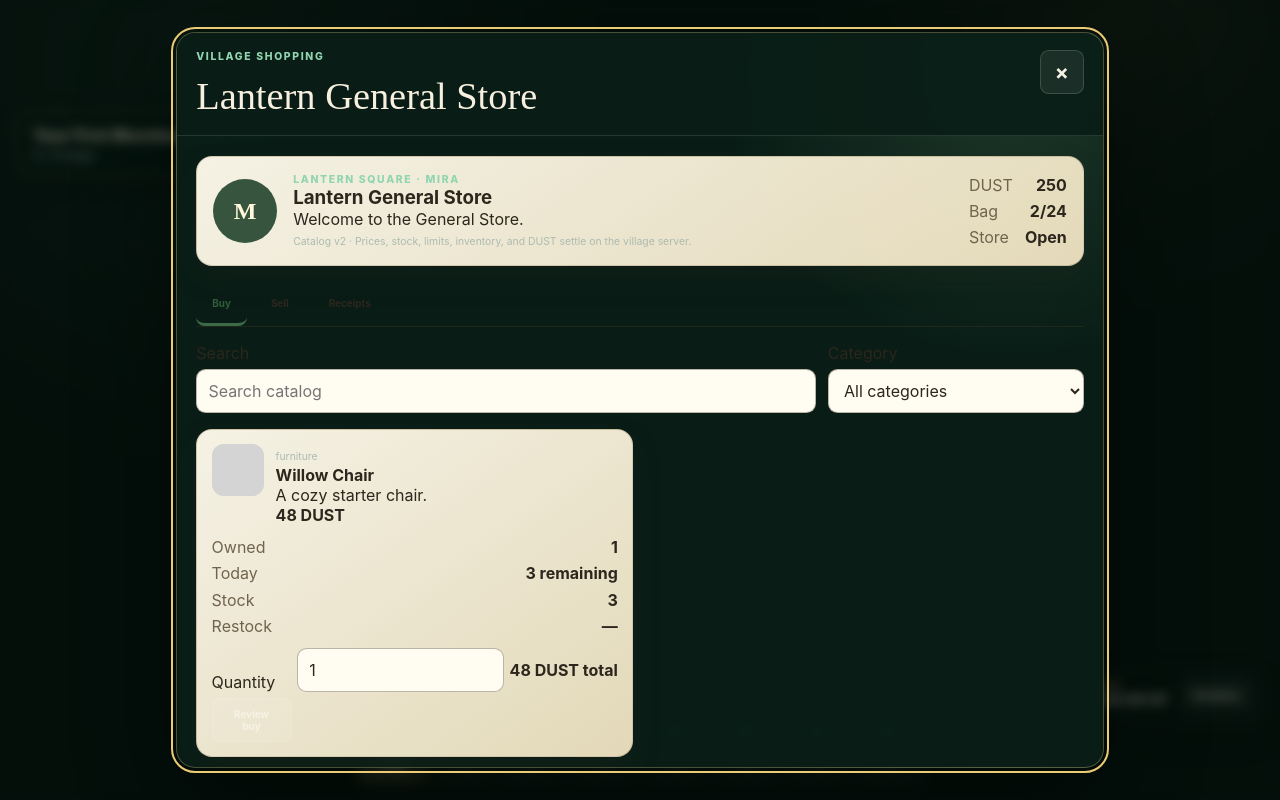
Test: CozyGameplay accessible HUD › routes confirmed shop buying through the canonical interaction transaction contract
Click the button "Review buy".
click(252, 720)  # box [212,698,292,742]
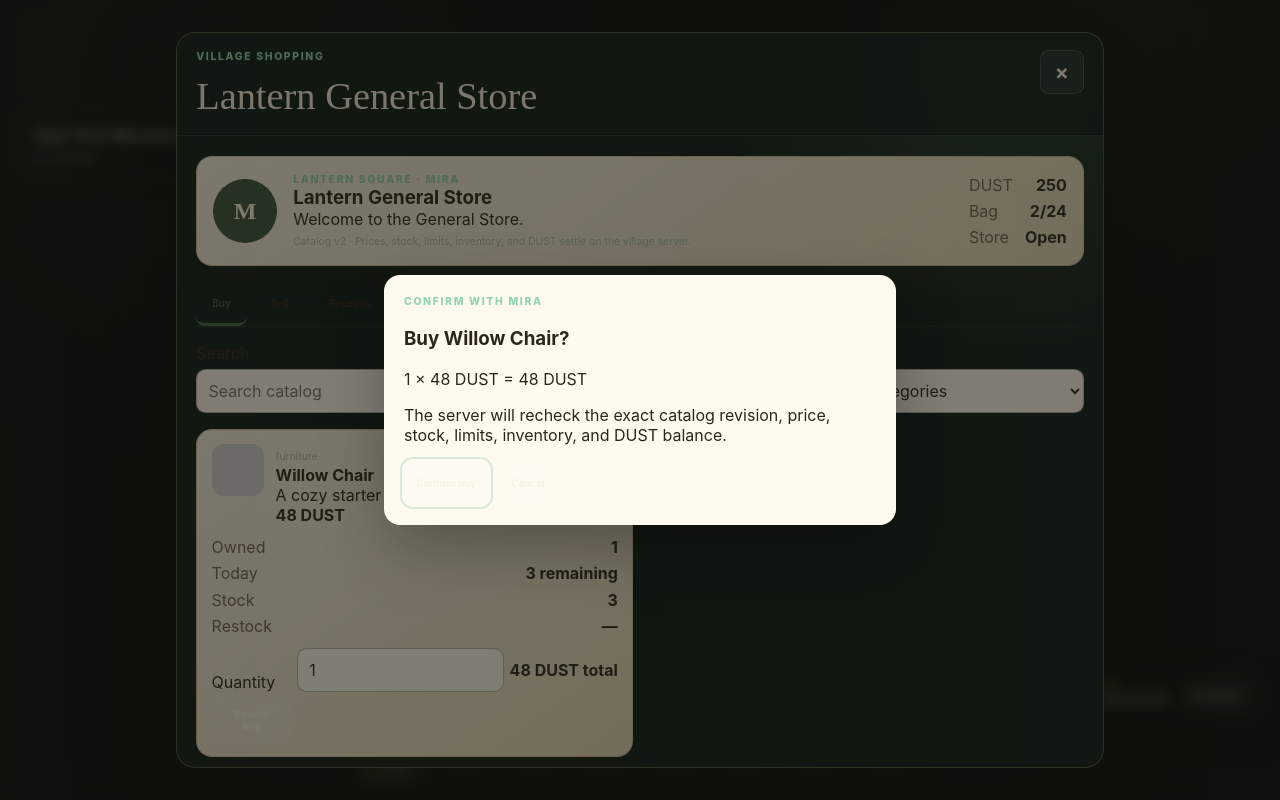
Click the button "Confirm buy".
click(446, 483)  # box [404,461,488,505]
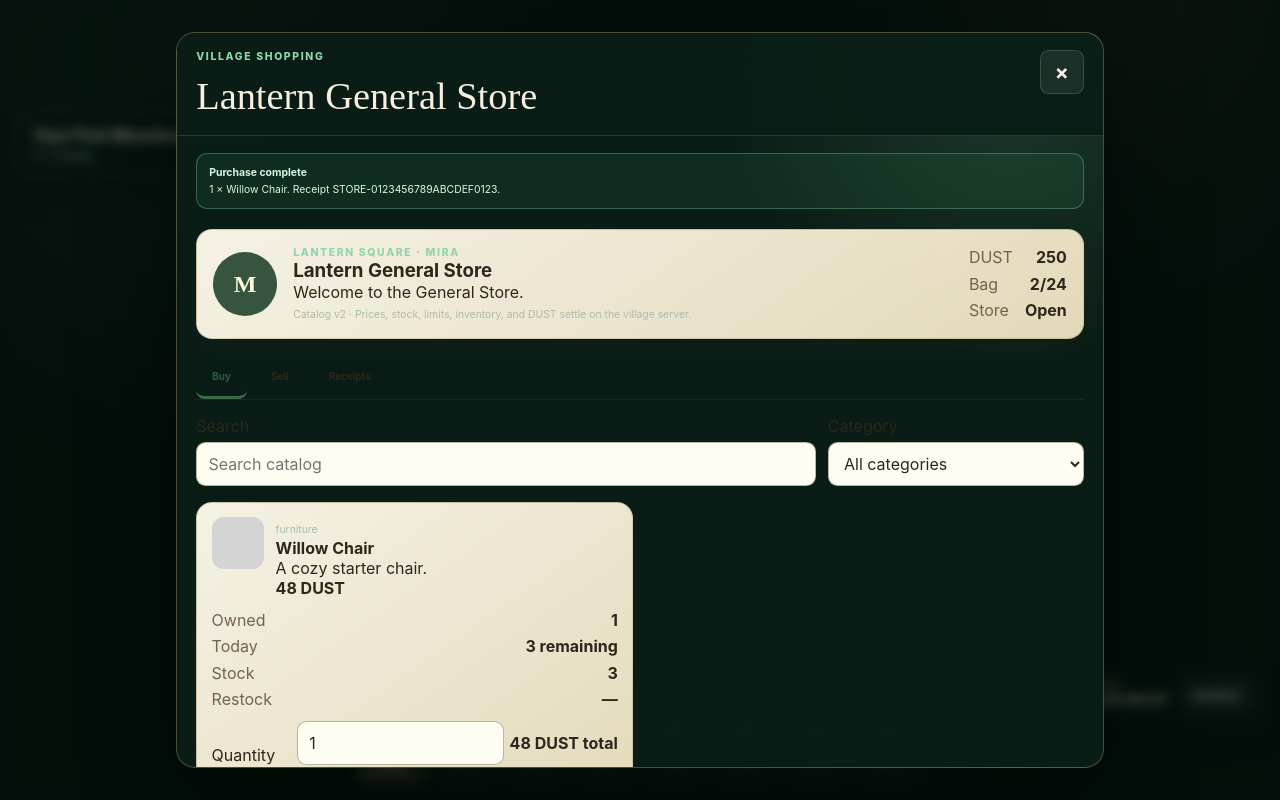
Expected: the text "Purchase complete" is shown, [209,166,307,179]
Expected: the text "STORE-0123456789ABCDEF0123" is shown, [209,183,500,196]
